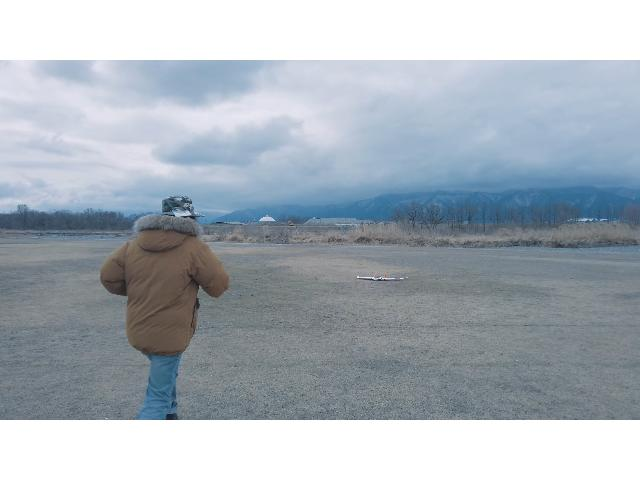Anti-Drone: (355, 272, 409, 284)
